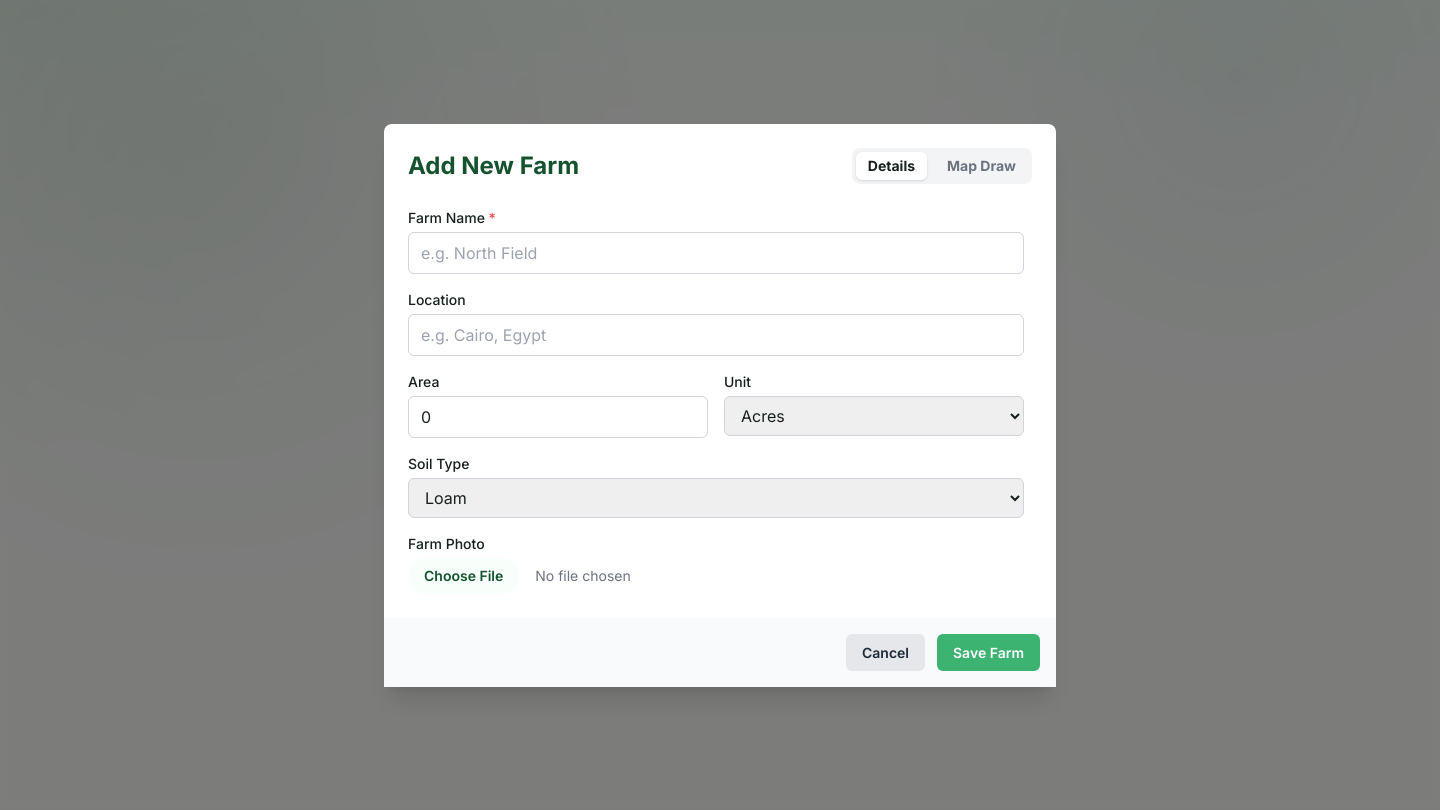
Test: rejected farm save stays open and submits once
Type "North Field" into the field labelled "Farm Name *" at (716, 252), box [408,232,1024,274]
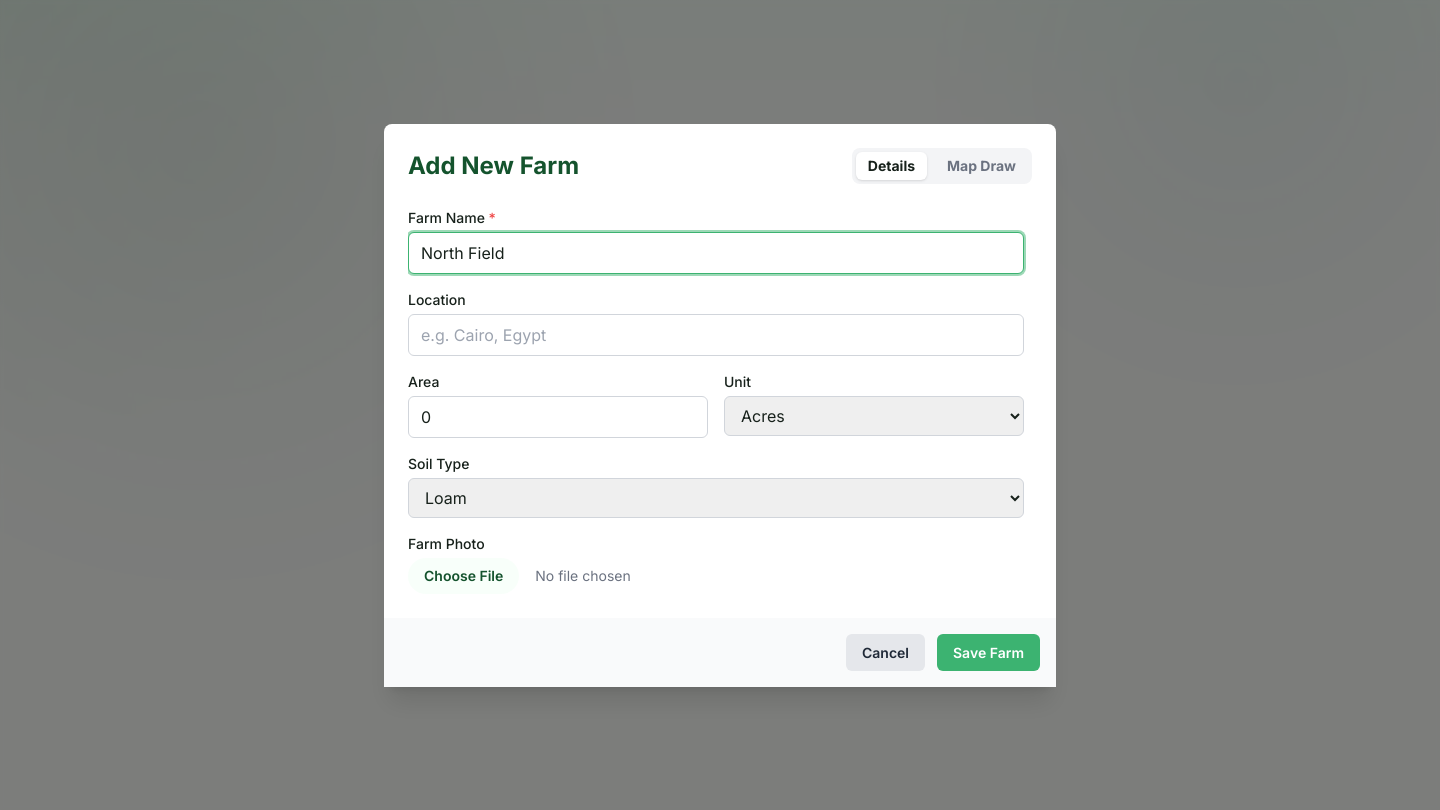
Replace the text in the number field labelled "Area" with "12" at (558, 416), box [408,396,708,438]
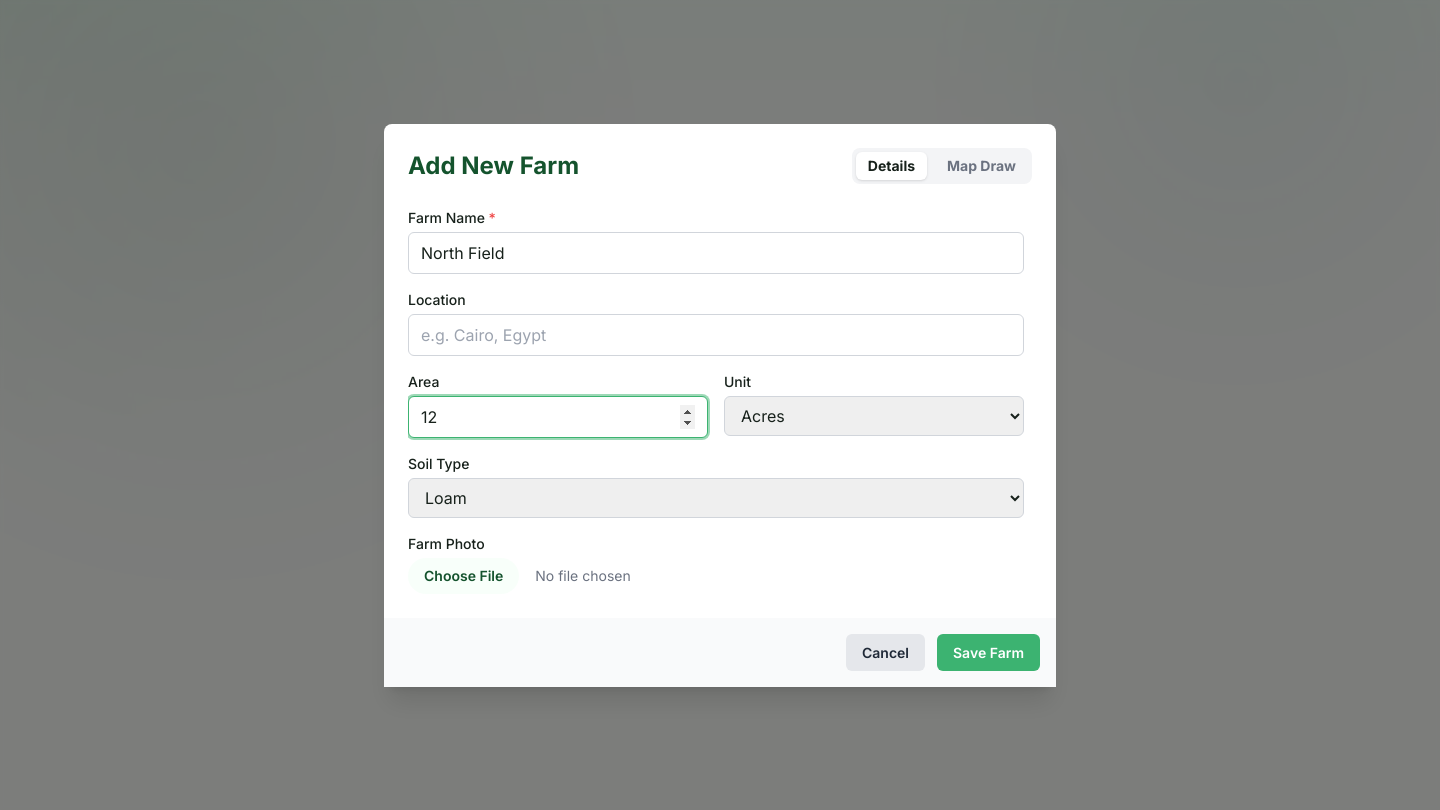
Click the button "Save Farm" at (988, 652), box [937,634,1040,670]
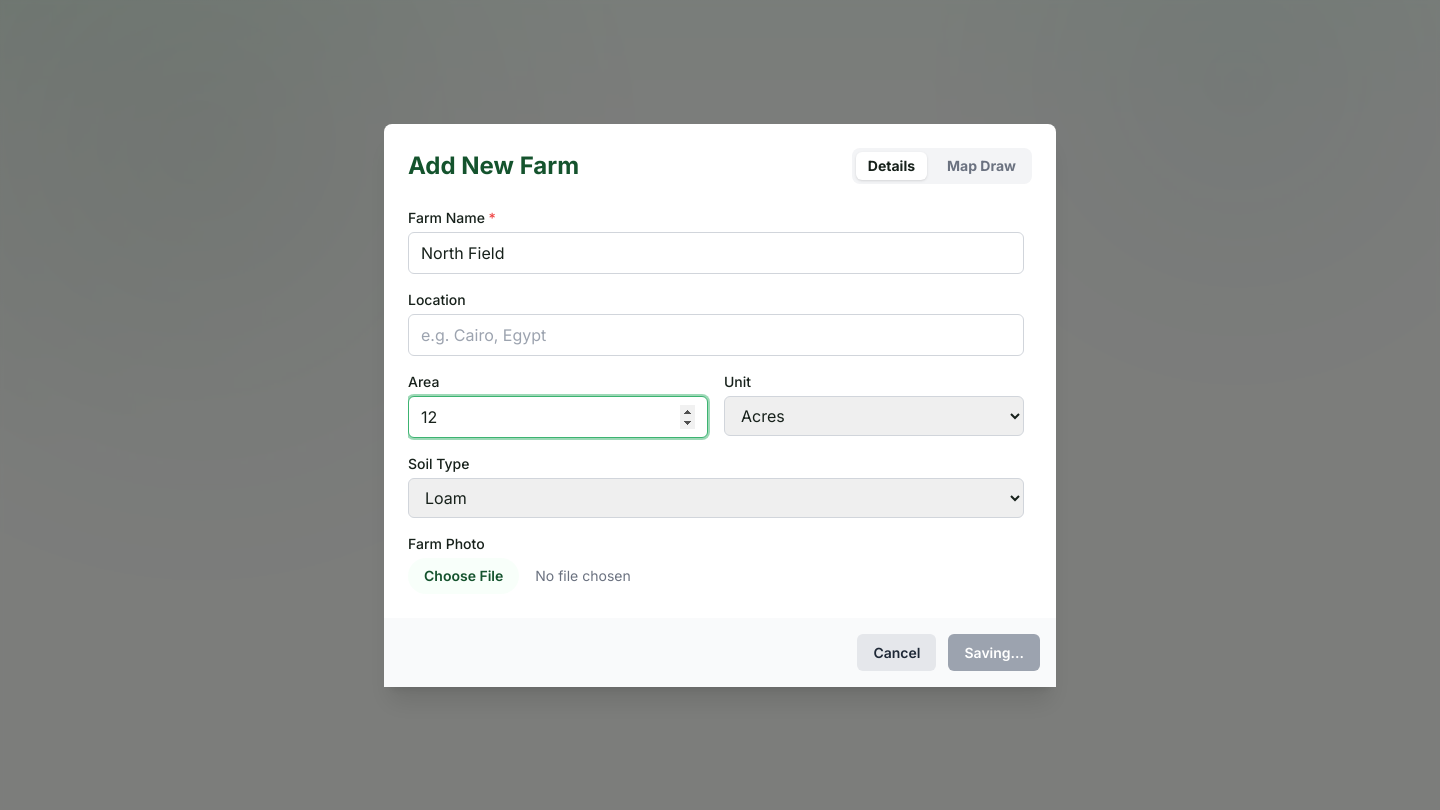
Click the button named "save" at (994, 652), box [948,634,1040,670]
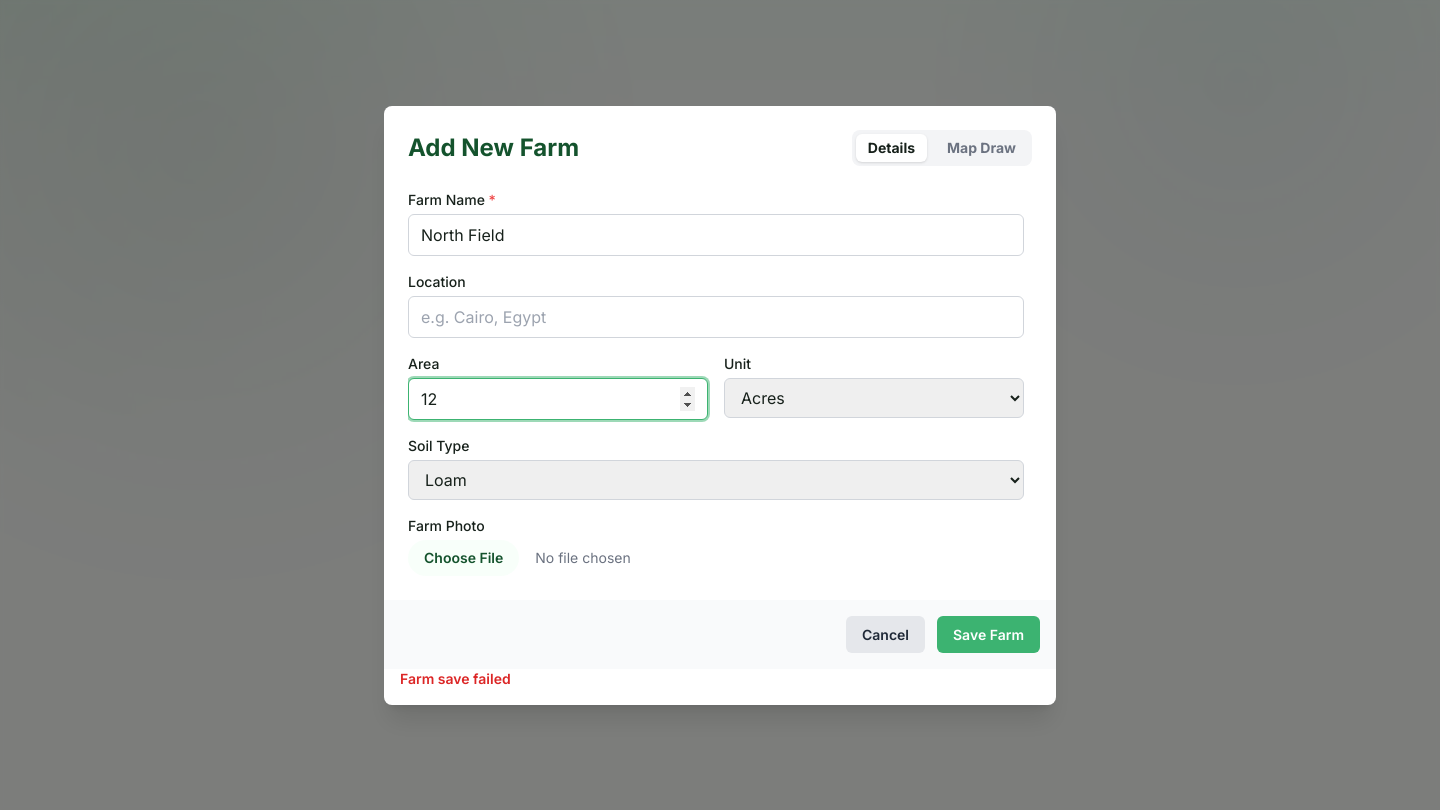
Now the message reads "Farm save failed", box [400,670,511,686]
